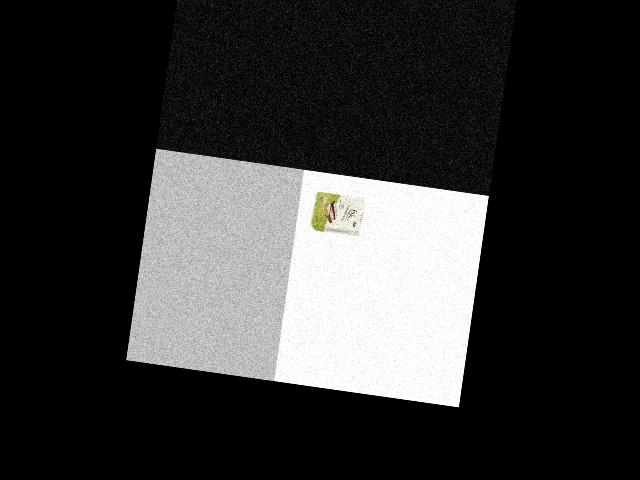chocolate: (308, 186, 367, 239)
